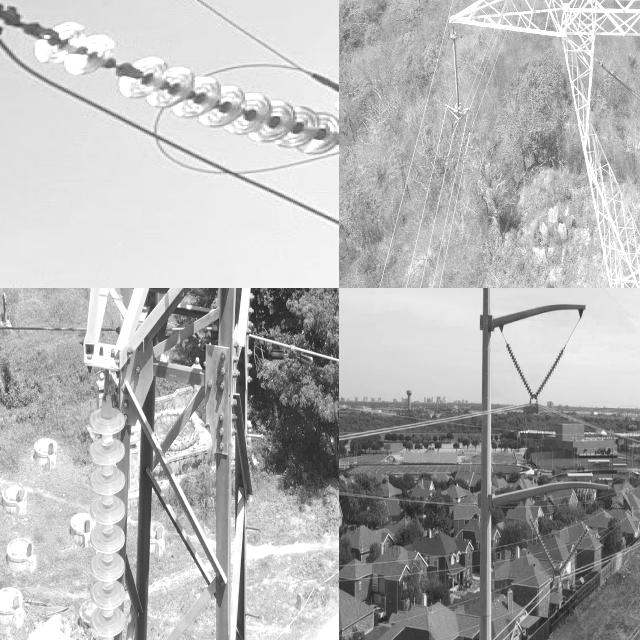杆塔: (81, 288, 269, 640), (448, 0, 640, 288)
正常电缆: (249, 323, 339, 375), (0, 318, 75, 341)
正常绝缘子: (0, 0, 339, 181), (90, 404, 127, 640), (529, 337, 571, 407), (551, 519, 594, 585), (501, 331, 537, 407), (525, 507, 559, 581), (599, 59, 640, 103), (450, 26, 464, 116)
绝缘子破损: (110, 57, 134, 79)
